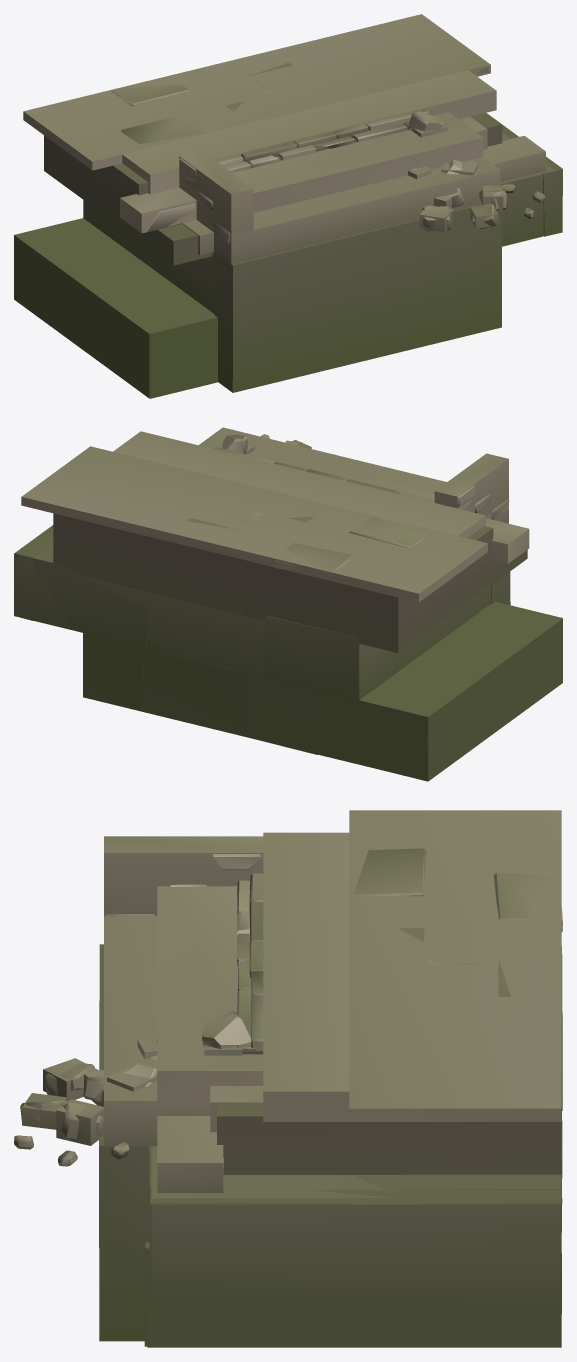
The model's file is podium_stair.glb.
The picture shows the model from 3 angles, top to bottom: view 1: azimuth 30°, elevation 25°; view 2: azimuth 150°, elevation 25°; view 3: azimuth 270°, elevation 25°; orthographic projection. The views are drawn at different scales.
Visible parts, largest first — view 1: podium_stair_far, podium_stair; view 2: podium_stair_far, podium_stair; view 3: podium_stair_far, podium_stair.
Boxes of the visible parts, x1,y1,x2,y2 form: podium_stair_far: [14, 14, 560, 398]; podium_stair: [44, 57, 562, 398]; podium_stair_far: [14, 427, 562, 781]; podium_stair: [15, 434, 562, 781]; podium_stair_far: [22, 810, 561, 1347]; podium_stair: [14, 848, 562, 1346].
Size of the model in its own units: 22.2 by 10.13 by 16.56.
